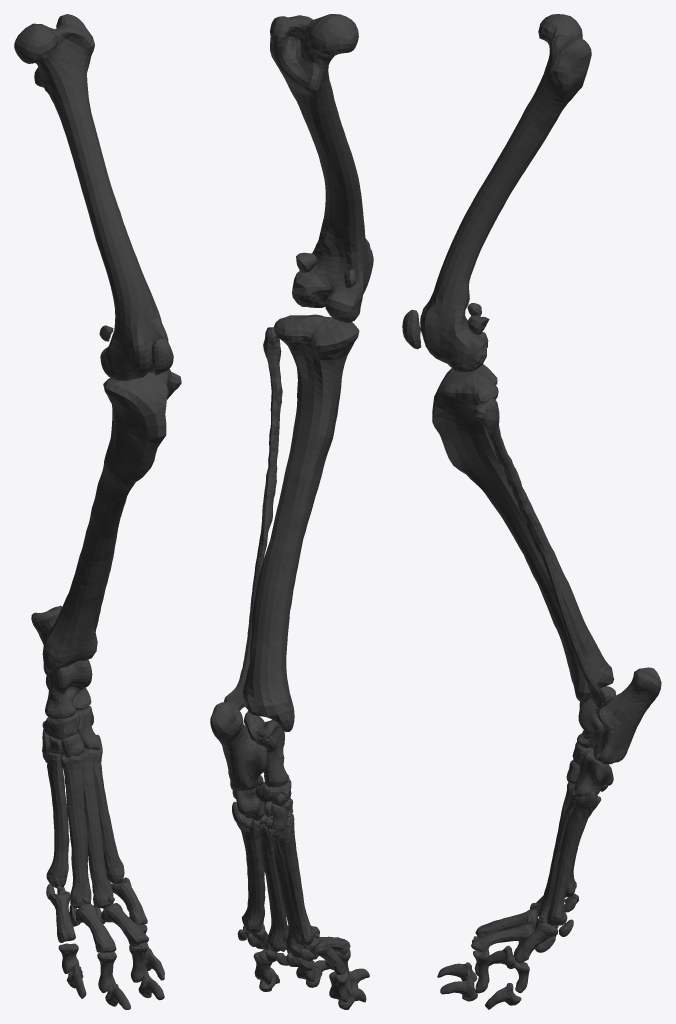
File: Femur.glb
3 renders of one model, left to right at view 1: azimuth 30°, elevation 25°; view 2: azimuth 150°, elevation 25°; view 3: azimuth 270°, elevation 25°, orthographic. The views are drawn at different scales.
Visible parts, largest first — view 1: Femur; view 2: Femur; view 3: Femur.
Boxes of the visible parts, box(x1,y1,x2,y2) form: Femur: box(14, 14, 181, 1009); Femur: box(210, 14, 373, 1009); Femur: box(402, 14, 661, 1009).
Size of the model in its own units: 0.4591 by 3.41 by 0.8388.
1 material, 1 textured.
